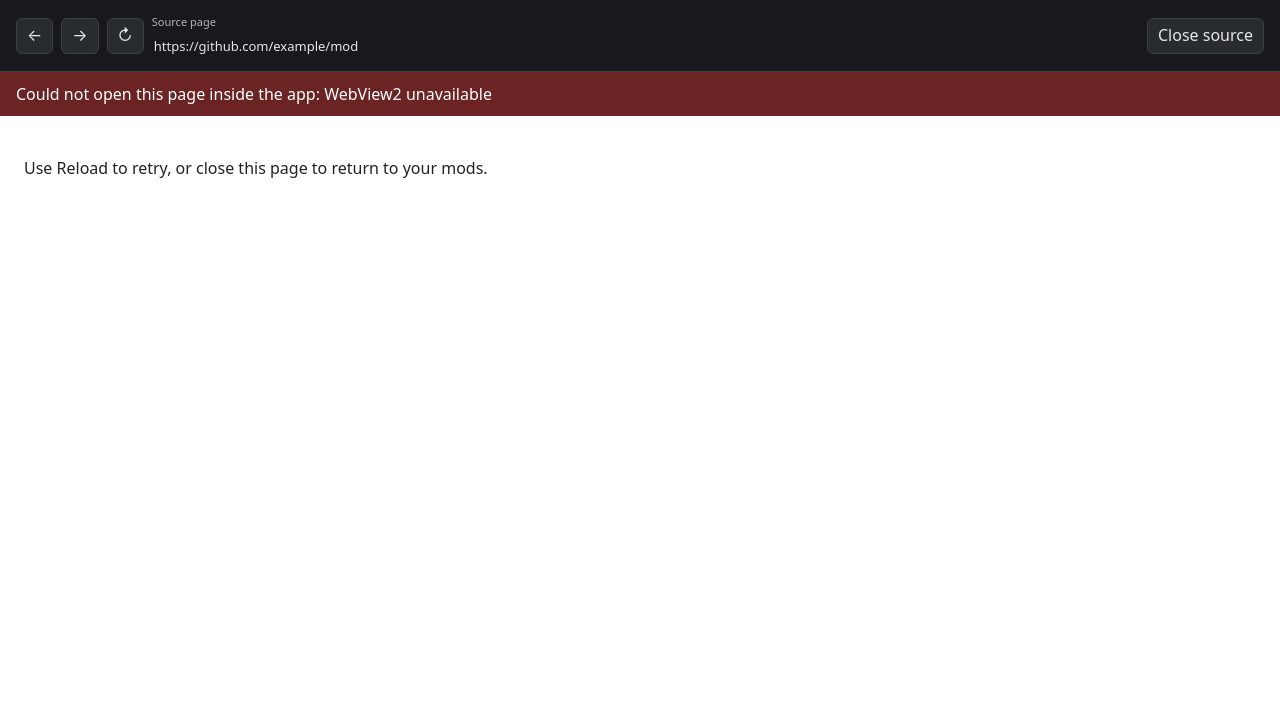
Test: native source browser controls › reports native failures in the app and lets Reload recreate the view
This screenshot has width=1280, height=720.
Expected: the message shows "WebView2 unavailable", x1=16 y1=83 x2=492 y2=105
Click the button named "Reload". click: (125,36)
box: x1=106 y1=18 x2=144 y2=54
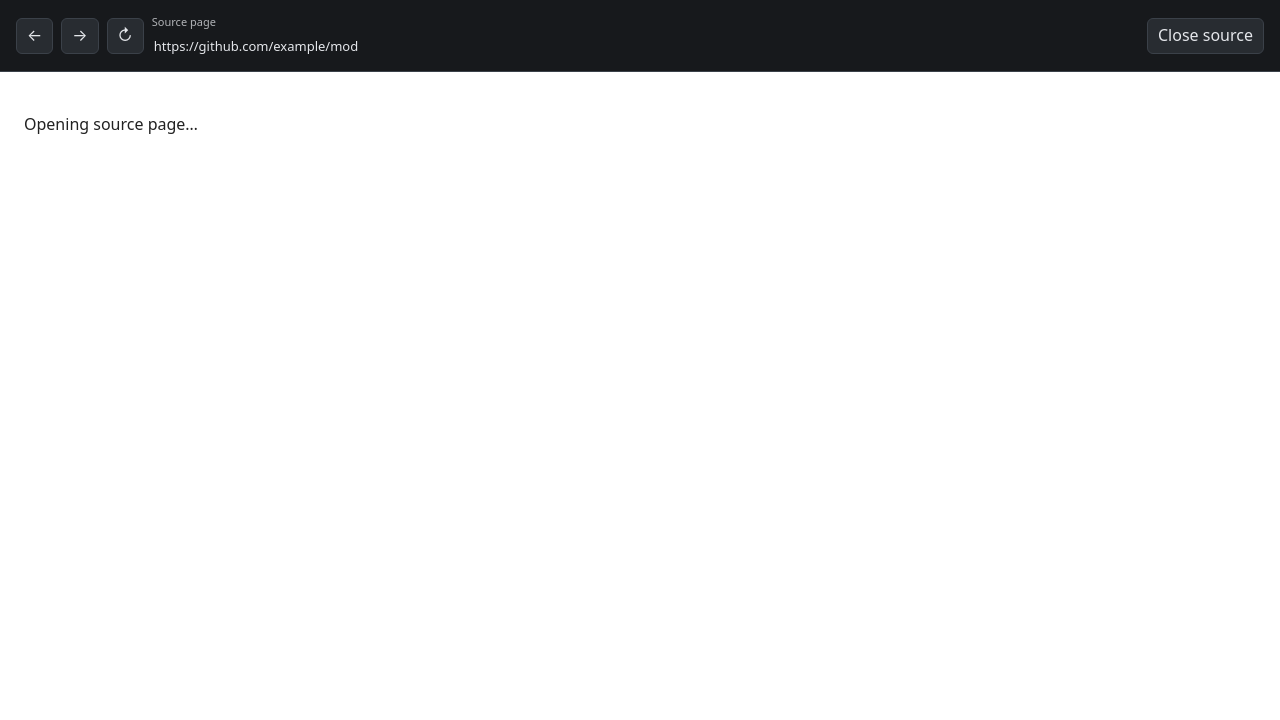
Expected: the message "Could not open this page inside the app: WebView2 unavailable" is gone
